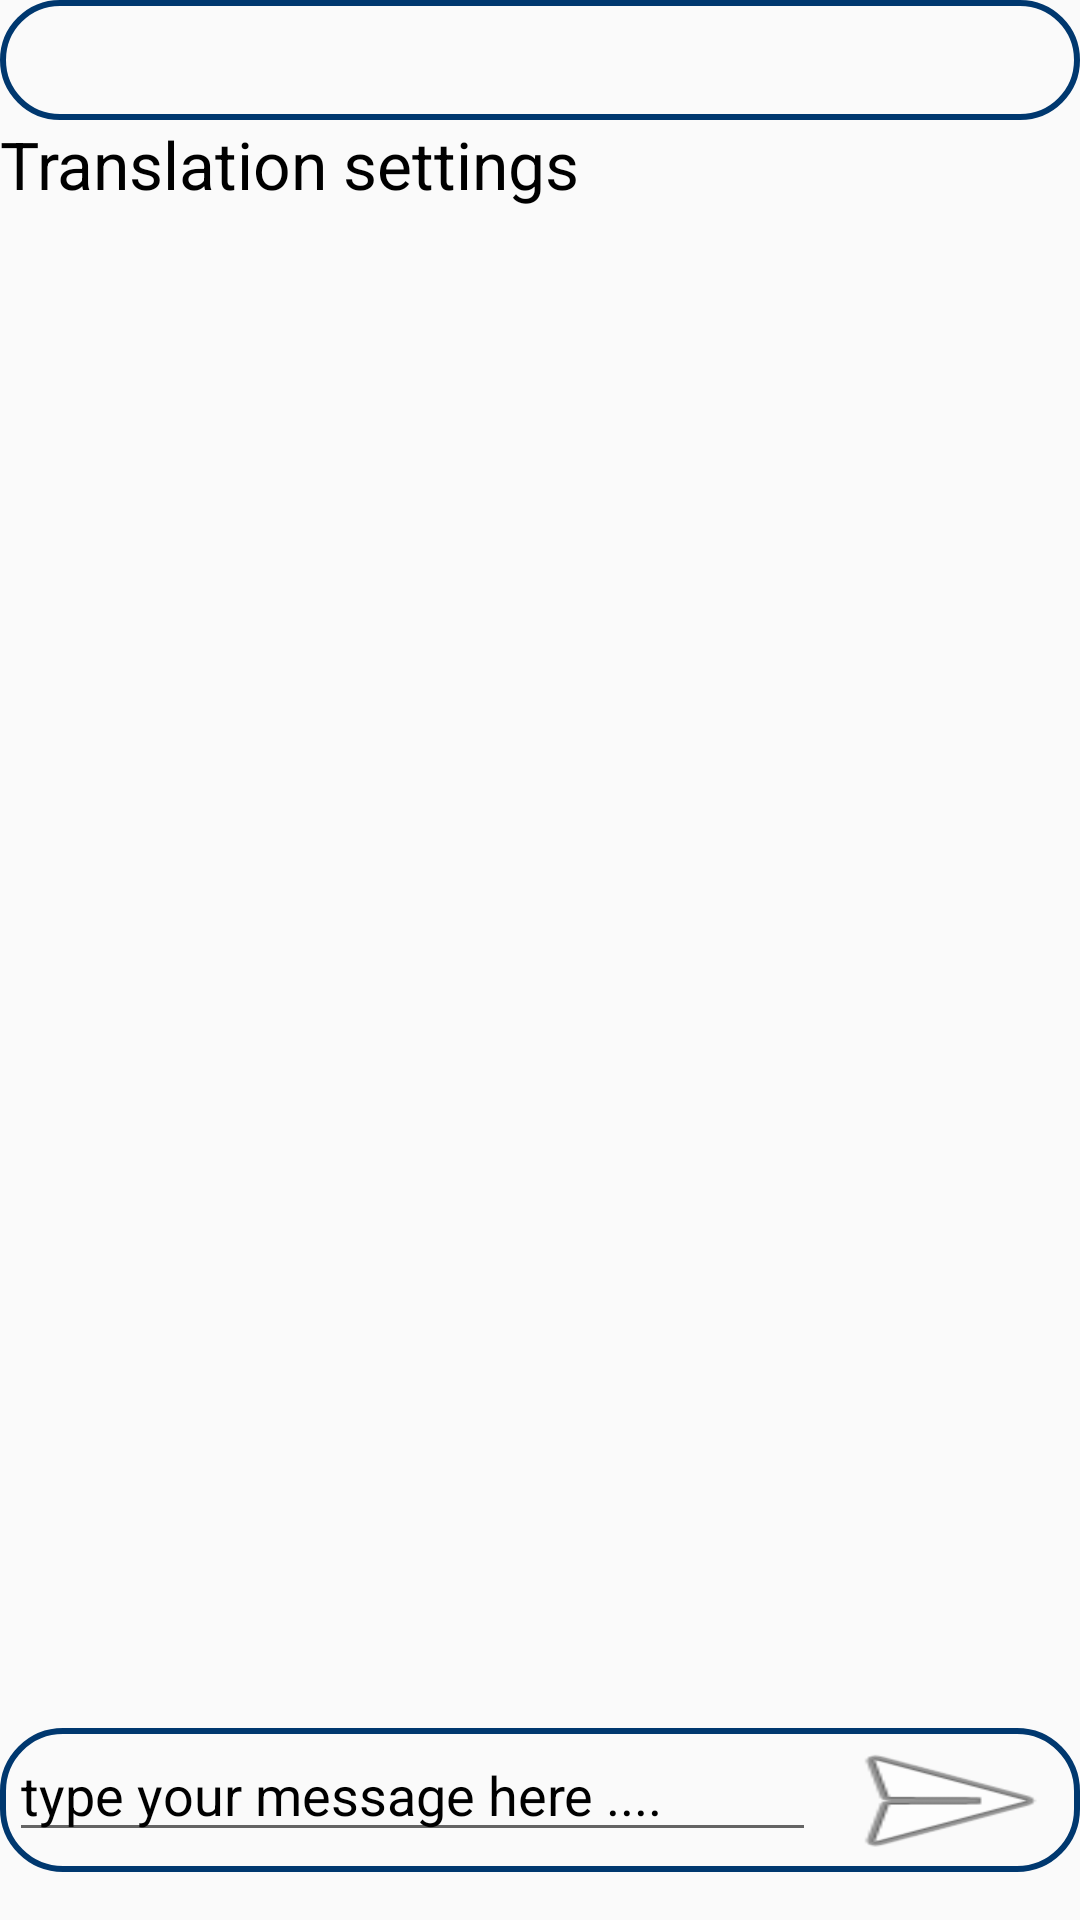

Screen size 1080w x 1920h. Icon name, then its center in pixels as point (x, y):
send: point (948, 1800)
